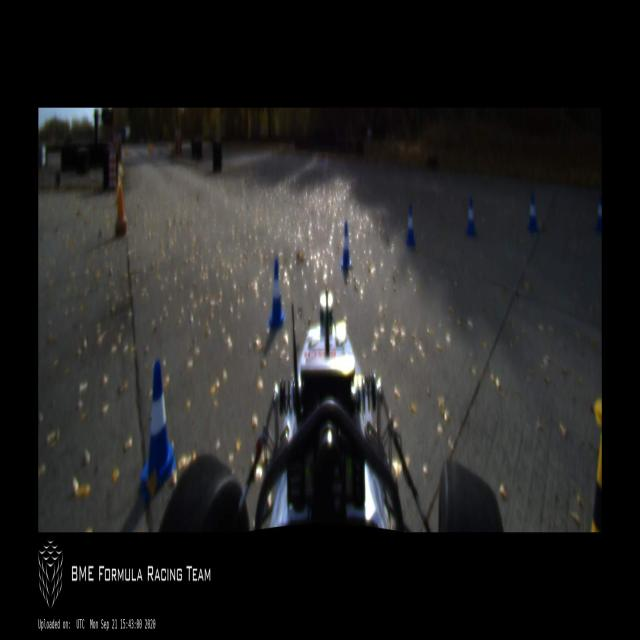blue_cone: (142, 360, 176, 498), (269, 260, 285, 328), (341, 223, 351, 269), (466, 198, 476, 237), (528, 194, 538, 231), (406, 205, 414, 246), (595, 195, 602, 232)
